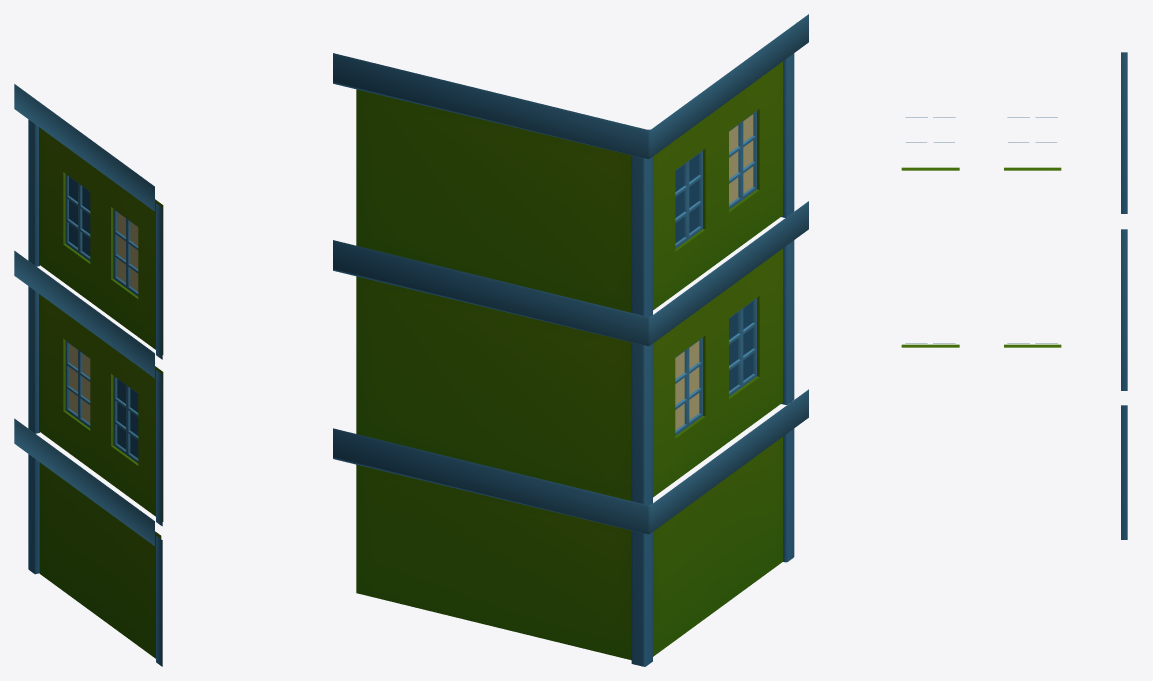
Rendered from BackgroundBuilding02Night.glb.
3 renders of one model, left to right at view 1: azimuth 30°, elevation 25°; view 2: azimuth 150°, elevation 25°; view 3: azimuth 270°, elevation 25°, orthographic. The views are drawn at different scales.
Parts seen in each view (by area): view 1: BackgroundBuilding02Night; view 2: BackgroundBuilding02Night; view 3: BackgroundBuilding02Night.
Part boxes in pixels (bbox=[...]): BackgroundBuilding02Night: bbox=[14, 84, 163, 666]; BackgroundBuilding02Night: bbox=[333, 14, 808, 666]; BackgroundBuilding02Night: bbox=[901, 52, 1127, 539].
Bounding box in the file's own units: 10.6 × 17.38 × 9.21.
Materials: 2 (1 with a texture image).
